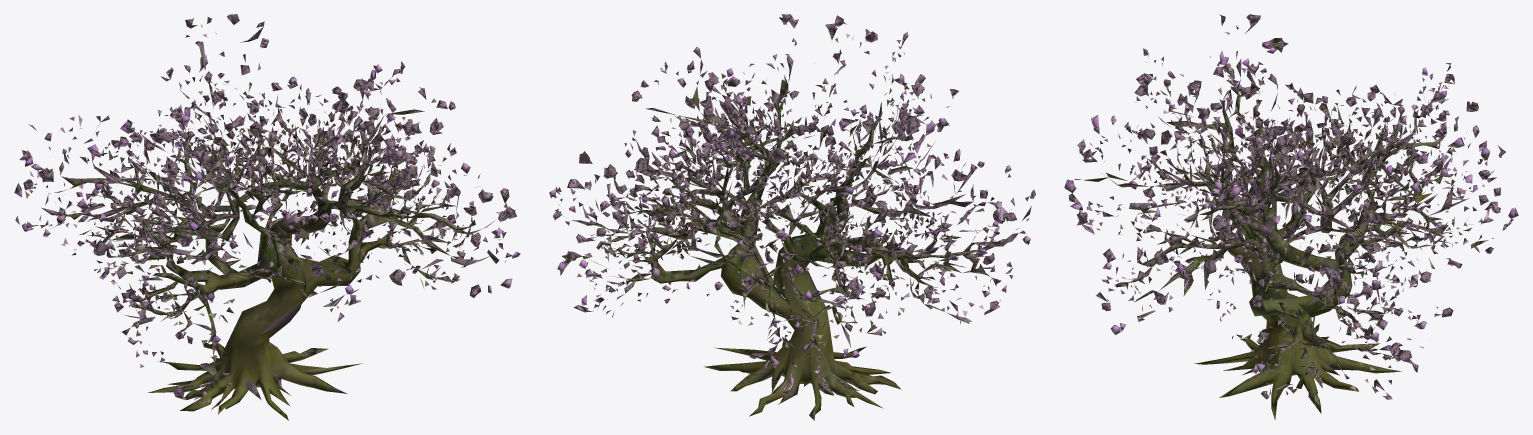
The model's file is A_sprawling_forest_bu.glb.
3 views of the same model, side by side, from view 1: azimuth 30°, elevation 25°; view 2: azimuth 150°, elevation 25°; view 3: azimuth 270°, elevation 25° (orthographic). The views are drawn at different scales.
Visible parts, largest first — view 1: A_sprawling_forest_bu; view 2: A_sprawling_forest_bu; view 3: A_sprawling_forest_bu.
Part boxes in pixels (<box>): A_sprawling_forest_bu: <box>14,14,520,420</box>; A_sprawling_forest_bu: <box>549,14,1035,420</box>; A_sprawling_forest_bu: <box>1064,14,1518,420</box>.
Size of the model in its own units: 1.9 by 1.46 by 1.87.
Materials: 1 (1 with a texture image).
